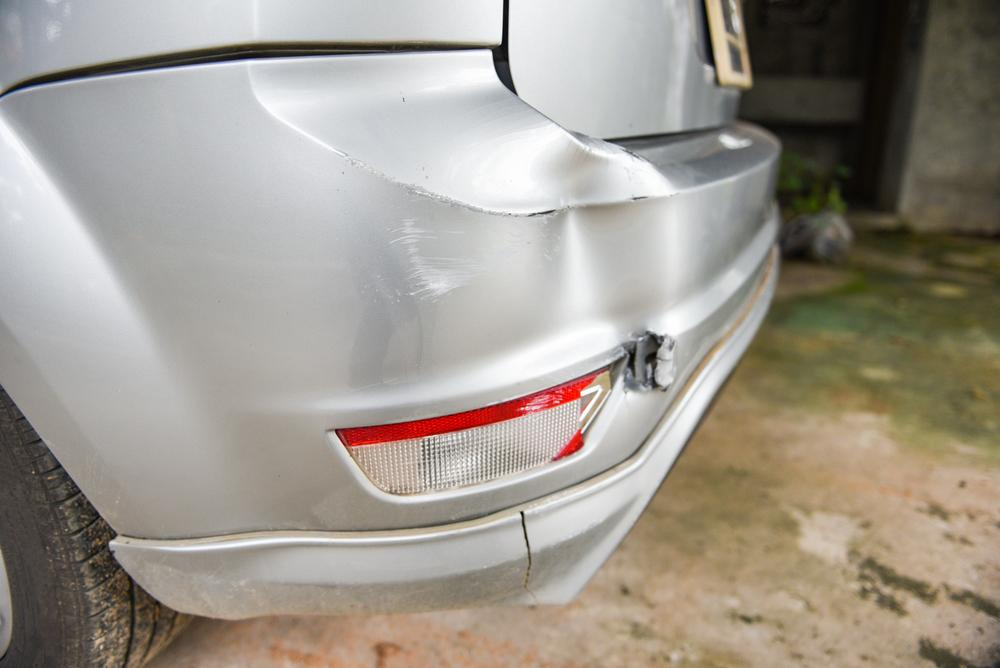crack: (625, 332, 678, 393), (518, 511, 539, 605)
dent: (500, 136, 681, 378)
scratch: (334, 149, 511, 309)
